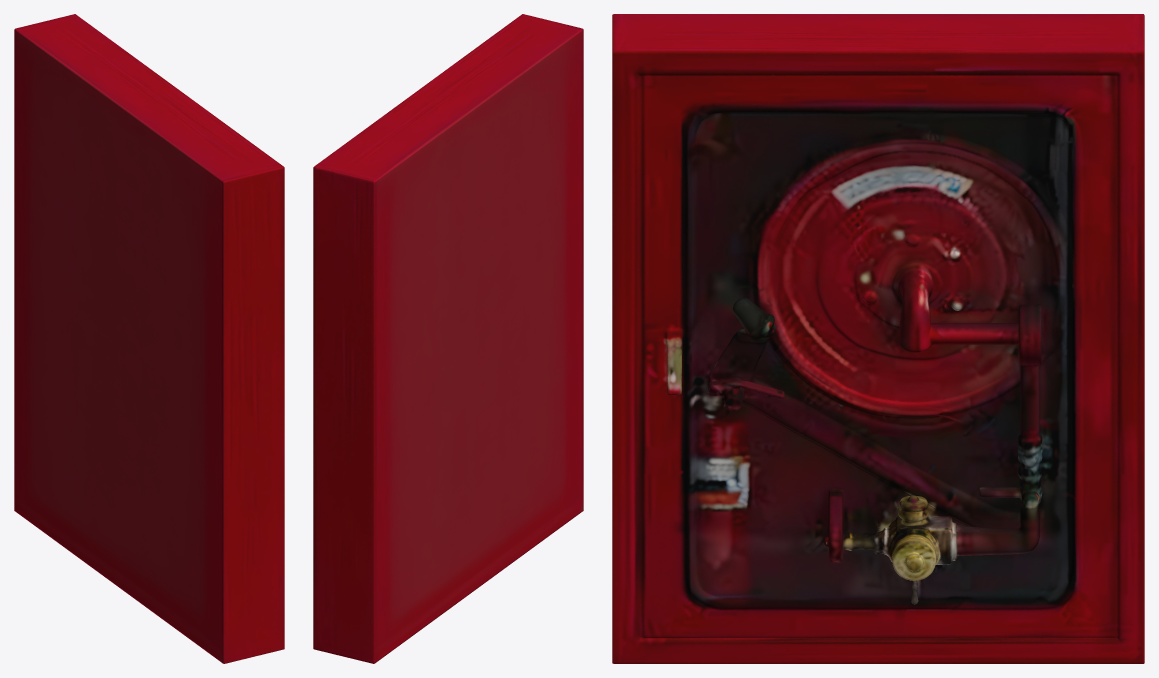
File: fire extinguisher cabinet 3d model.glb
The picture shows the model from 3 angles, left to right: view 1: azimuth 30°, elevation 25°; view 2: azimuth 150°, elevation 25°; view 3: azimuth 270°, elevation 25°; orthographic projection. The views are drawn at different scales.
Parts seen in each view (by area): view 1: tripo_node_5a806606-a72d-4e01-a616-8d5d0f0c8fe6; view 2: tripo_node_5a806606-a72d-4e01-a616-8d5d0f0c8fe6; view 3: tripo_node_5a806606-a72d-4e01-a616-8d5d0f0c8fe6.
Part boxes in pixels (x1=…): tripo_node_5a806606-a72d-4e01-a616-8d5d0f0c8fe6: x1=14, y1=14, x2=284, y2=663; tripo_node_5a806606-a72d-4e01-a616-8d5d0f0c8fe6: x1=313, y1=14, x2=583, y2=663; tripo_node_5a806606-a72d-4e01-a616-8d5d0f0c8fe6: x1=612, y1=14, x2=1144, y2=663.
Bounding box in the file's own units: 0.2293 × 1 × 0.7875.
Materials: 1 (1 with a texture image).
